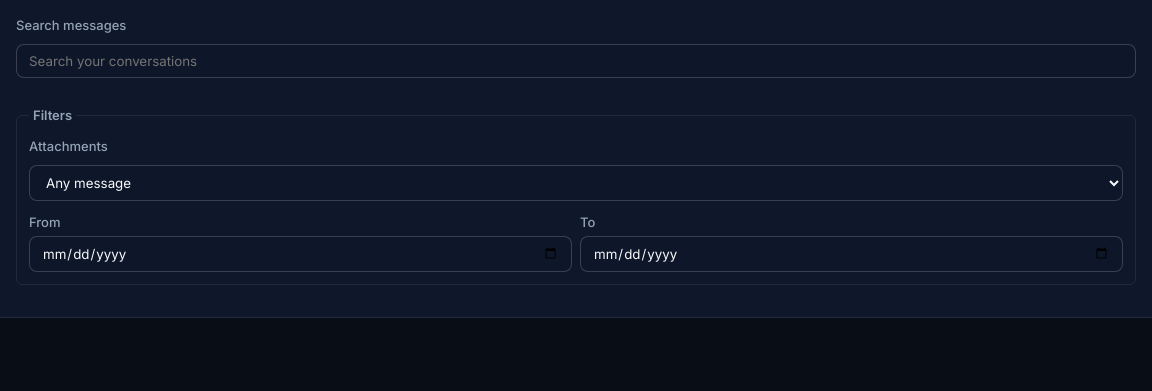
results › distinguishes no matches from a search still running
Type "deploy" into the search field with test id "search-input". click: (576, 60)
box: [16,44,1136,78]
Wait 300 ms
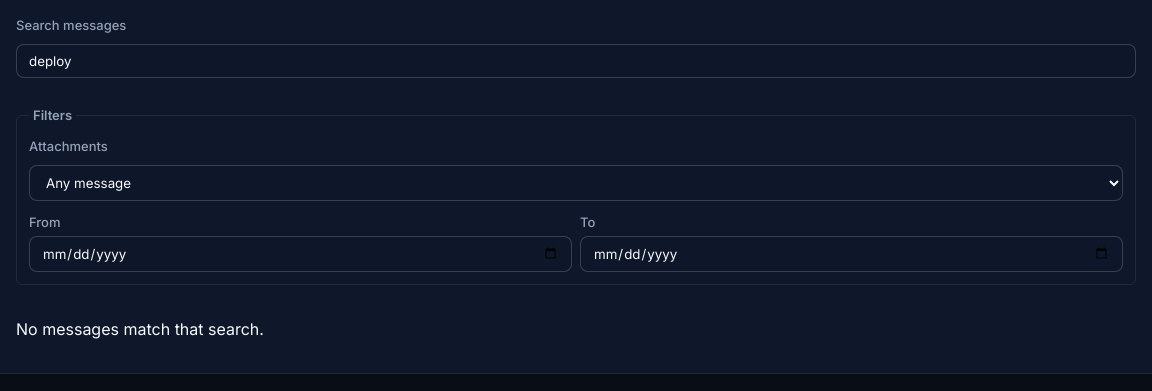
Expected: the text "No messages match that search." is shown, [16,319,264,339]
